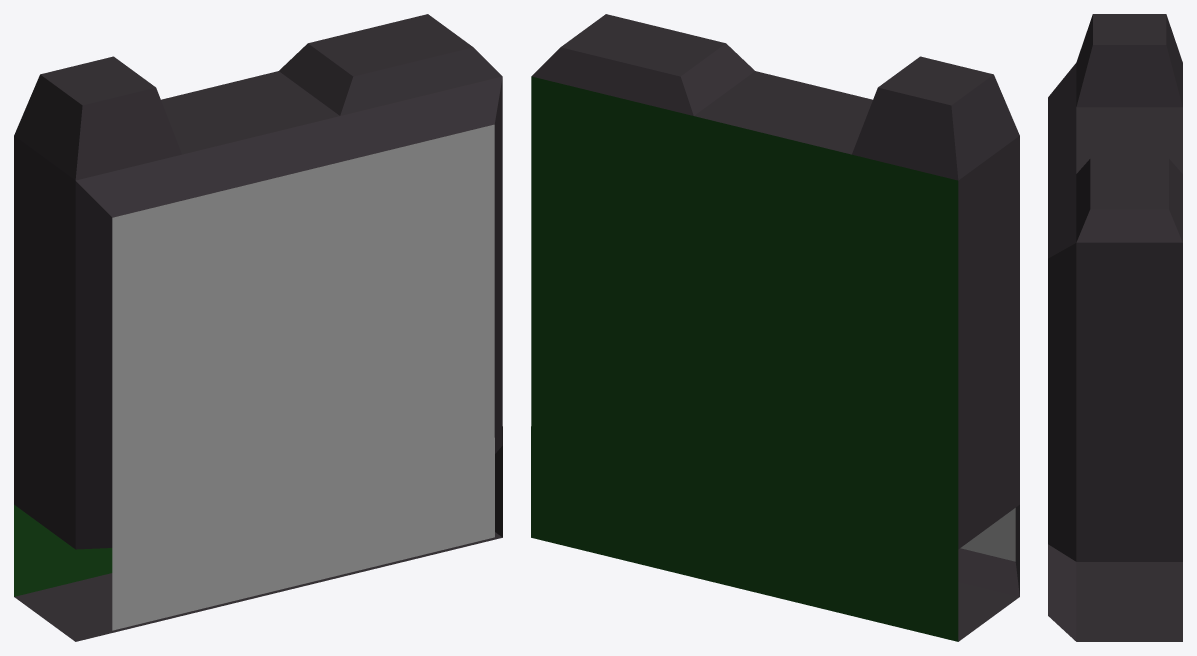
Rendered from CPU.fbx.
3 views of the same model, side by side, from view 1: azimuth 30°, elevation 25°; view 2: azimuth 150°, elevation 25°; view 3: azimuth 270°, elevation 25° (orthographic). The views are drawn at different scales.
Parts seen in each view (by area): view 1: Cube; view 2: Cube; view 3: Cube.
Boxes of the visible parts, box(x1,y1,x2,y2) form: Cube: box(14, 14, 502, 641); Cube: box(531, 14, 1019, 641); Cube: box(1048, 14, 1182, 641).
Bounding box in the file's own units: 802 × 942 × 253.
